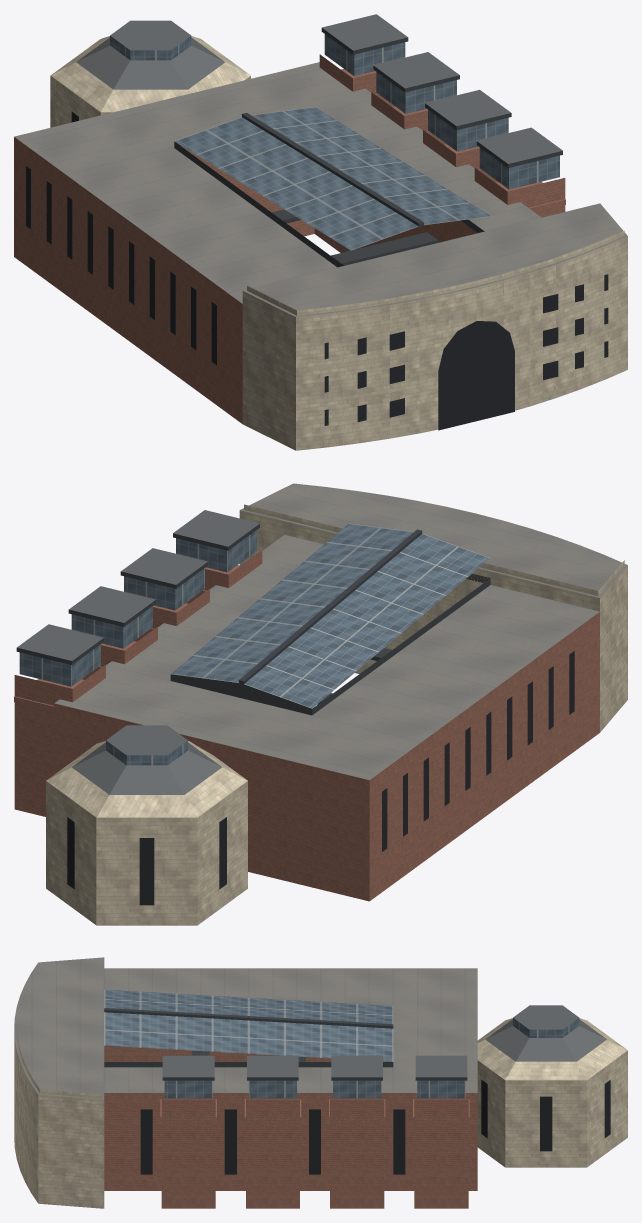
File: holocaust_museum.glb
3 renders of one model, top to bottom at view 1: azimuth 30°, elevation 25°; view 2: azimuth 150°, elevation 25°; view 3: azimuth 270°, elevation 25°, orthographic. The views are drawn at different scales.
Parts seen in each view (by area): view 1: holocaust_museum; view 2: holocaust_museum; view 3: holocaust_museum.
Part boxes in pixels (box(x1,y1,x2,y2)): holocaust_museum: box(14, 14, 627, 450); holocaust_museum: box(14, 483, 627, 925); holocaust_museum: box(14, 957, 627, 1208).
Bounding box in the file's own units: 56.04 × 24 × 102.
Materials: 5 (5 with a texture image).
